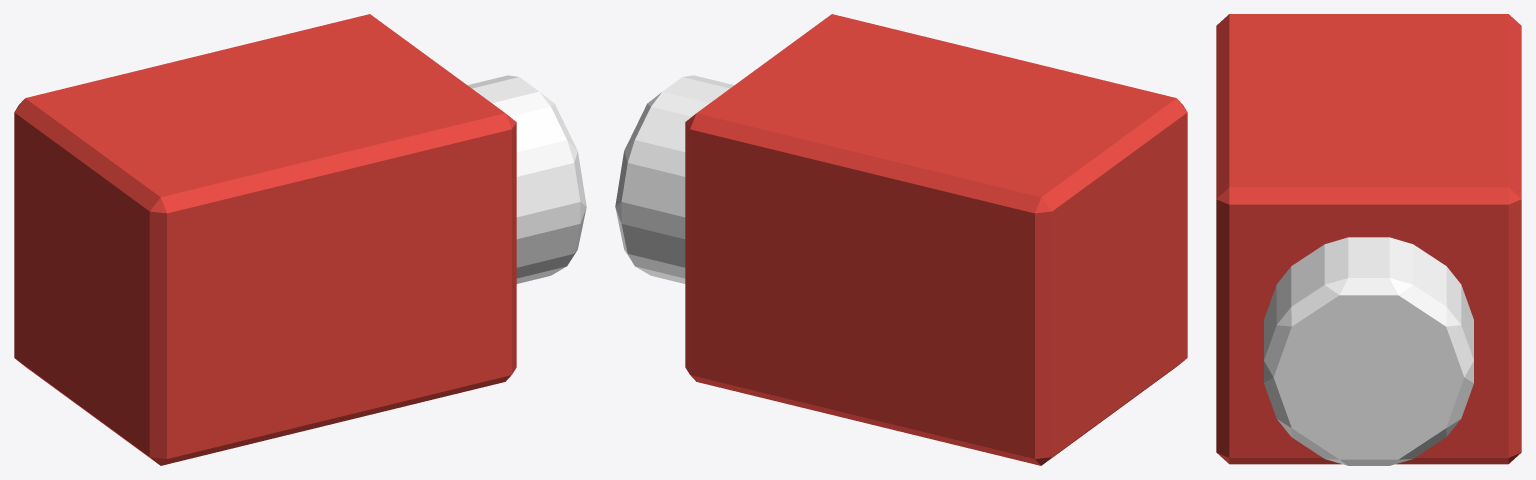
File: laser_emitter.glb
3 views of the same model, side by side, from view 1: azimuth 30°, elevation 25°; view 2: azimuth 150°, elevation 25°; view 3: azimuth 270°, elevation 25° (orthographic). The views are drawn at different scales.
Parts seen in each view (by area): view 1: laser_emitter; view 2: laser_emitter; view 3: laser_emitter.
Boxes of the visible parts, x1,y1,x2,y2 form: laser_emitter: [14, 14, 586, 465]; laser_emitter: [615, 14, 1187, 465]; laser_emitter: [1216, 14, 1521, 465].
Bounding box in the file's own units: 0.25 × 0.14 × 0.14.
